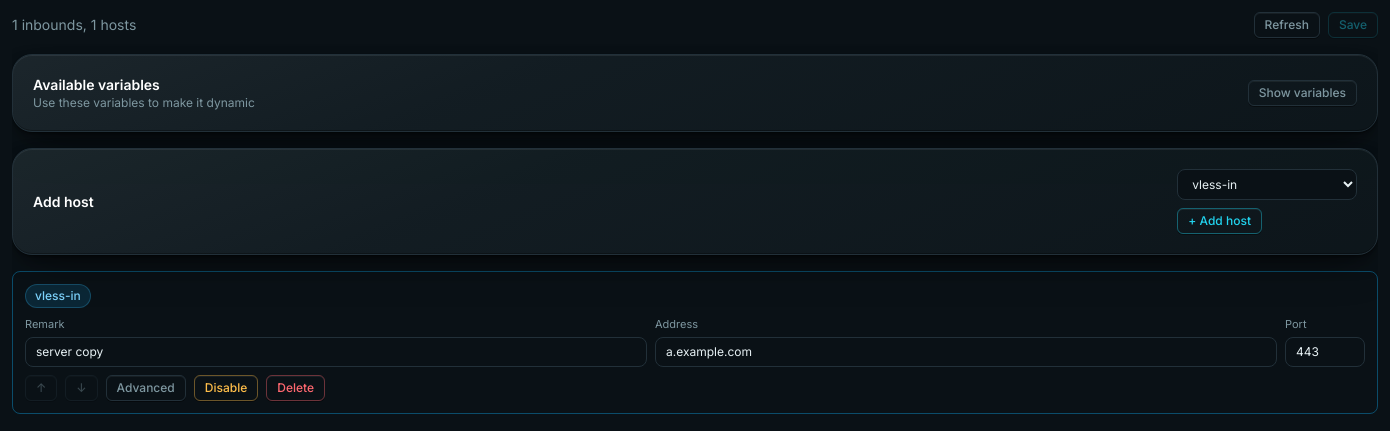
Test: the port field › reads a Persian keyboard's digits instead of turning them into NaN
Check: the field showing "server copy" is shown, box [25,336,647,366]
Replace the text in the field labelled "Port" with "۸۴۴۳". click: (1325,352)
box: [1285,336,1365,366]
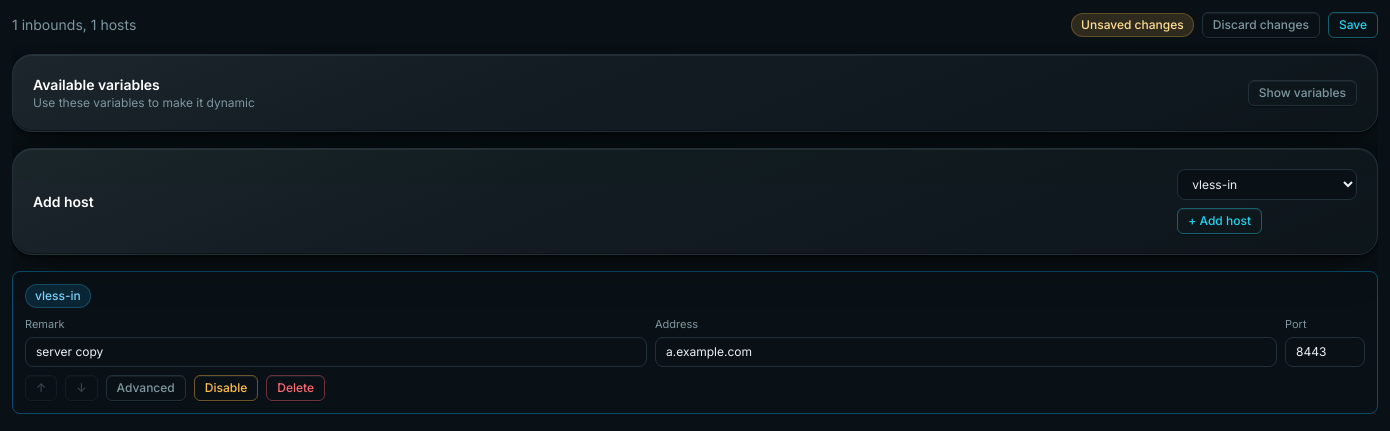
Check: the field labelled "Port" holds "8443", box [1285,336,1365,366]
